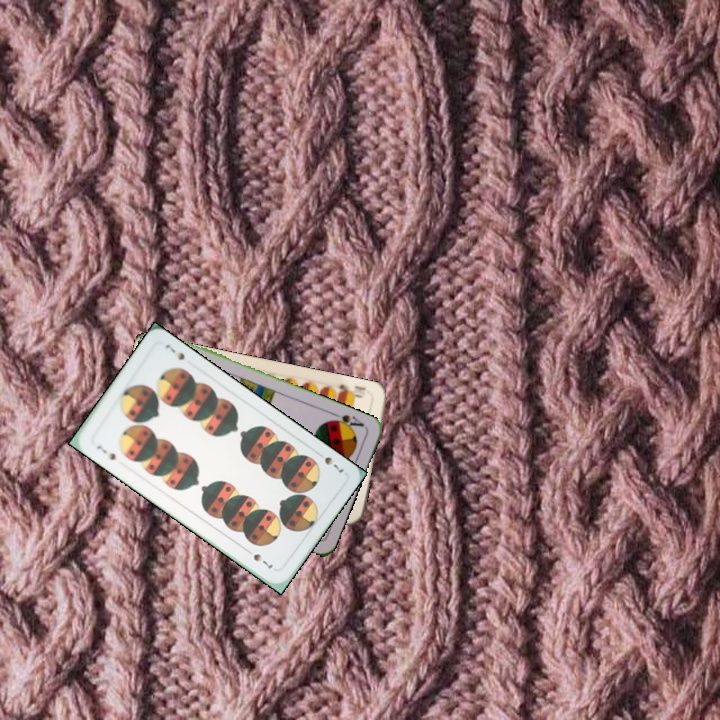E10: (334, 380, 365, 401)
S7: (312, 447, 346, 476), (92, 441, 118, 463)
SA: (326, 409, 367, 433)
